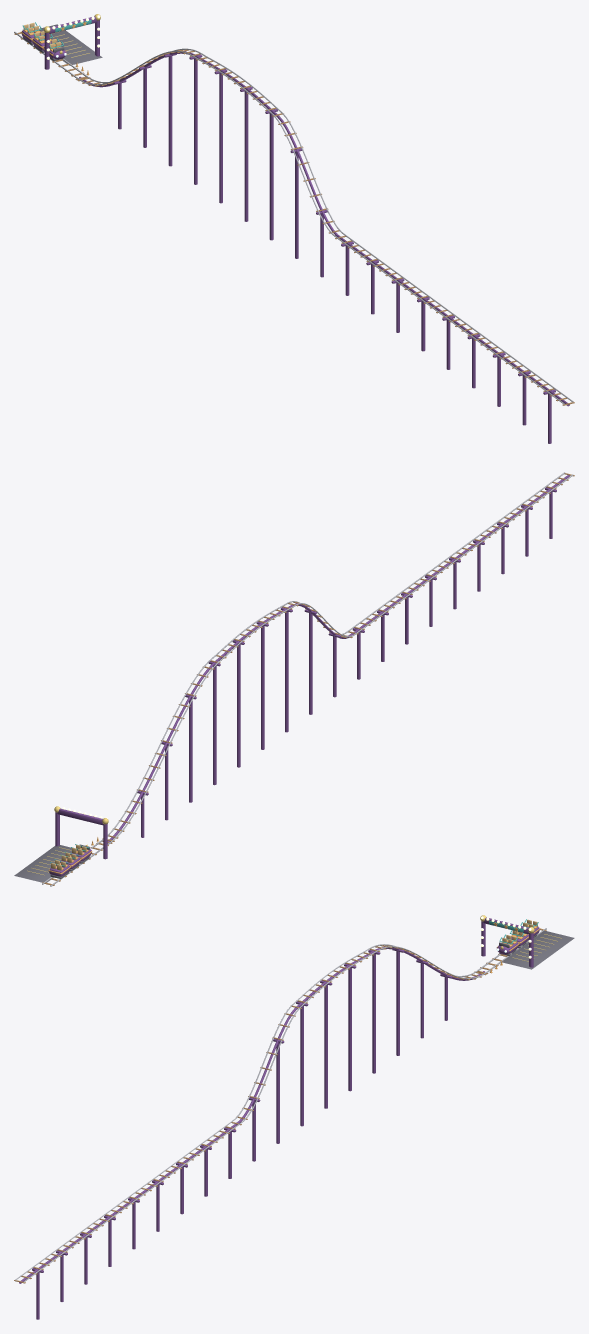
File: ESC_CursedCandyCarnival.fbx
3 renders of one model, top to bottom at view 1: azimuth 30°, elevation 25°; view 2: azimuth 150°, elevation 25°; view 3: azimuth 330°, elevation 25°, orthographic. The views are drawn at different scales.
Visible parts, largest first — view 1: Track, Body; view 2: Track, Body; view 3: Track, Body.
Boxes of the visible parts, left/top/right/bottom form: Track: left=75, top=48, right=574, bottom=443; Body: left=14, top=14, right=102, bottom=81; Track: left=101, top=472, right=574, bottom=843; Body: left=14, top=806, right=114, bottom=886; Track: left=14, top=944, right=488, bottom=1319; Body: left=474, top=915, right=574, bottom=975.
Bounding box in the file's own units: 7.74 × 17.76 × 131.
